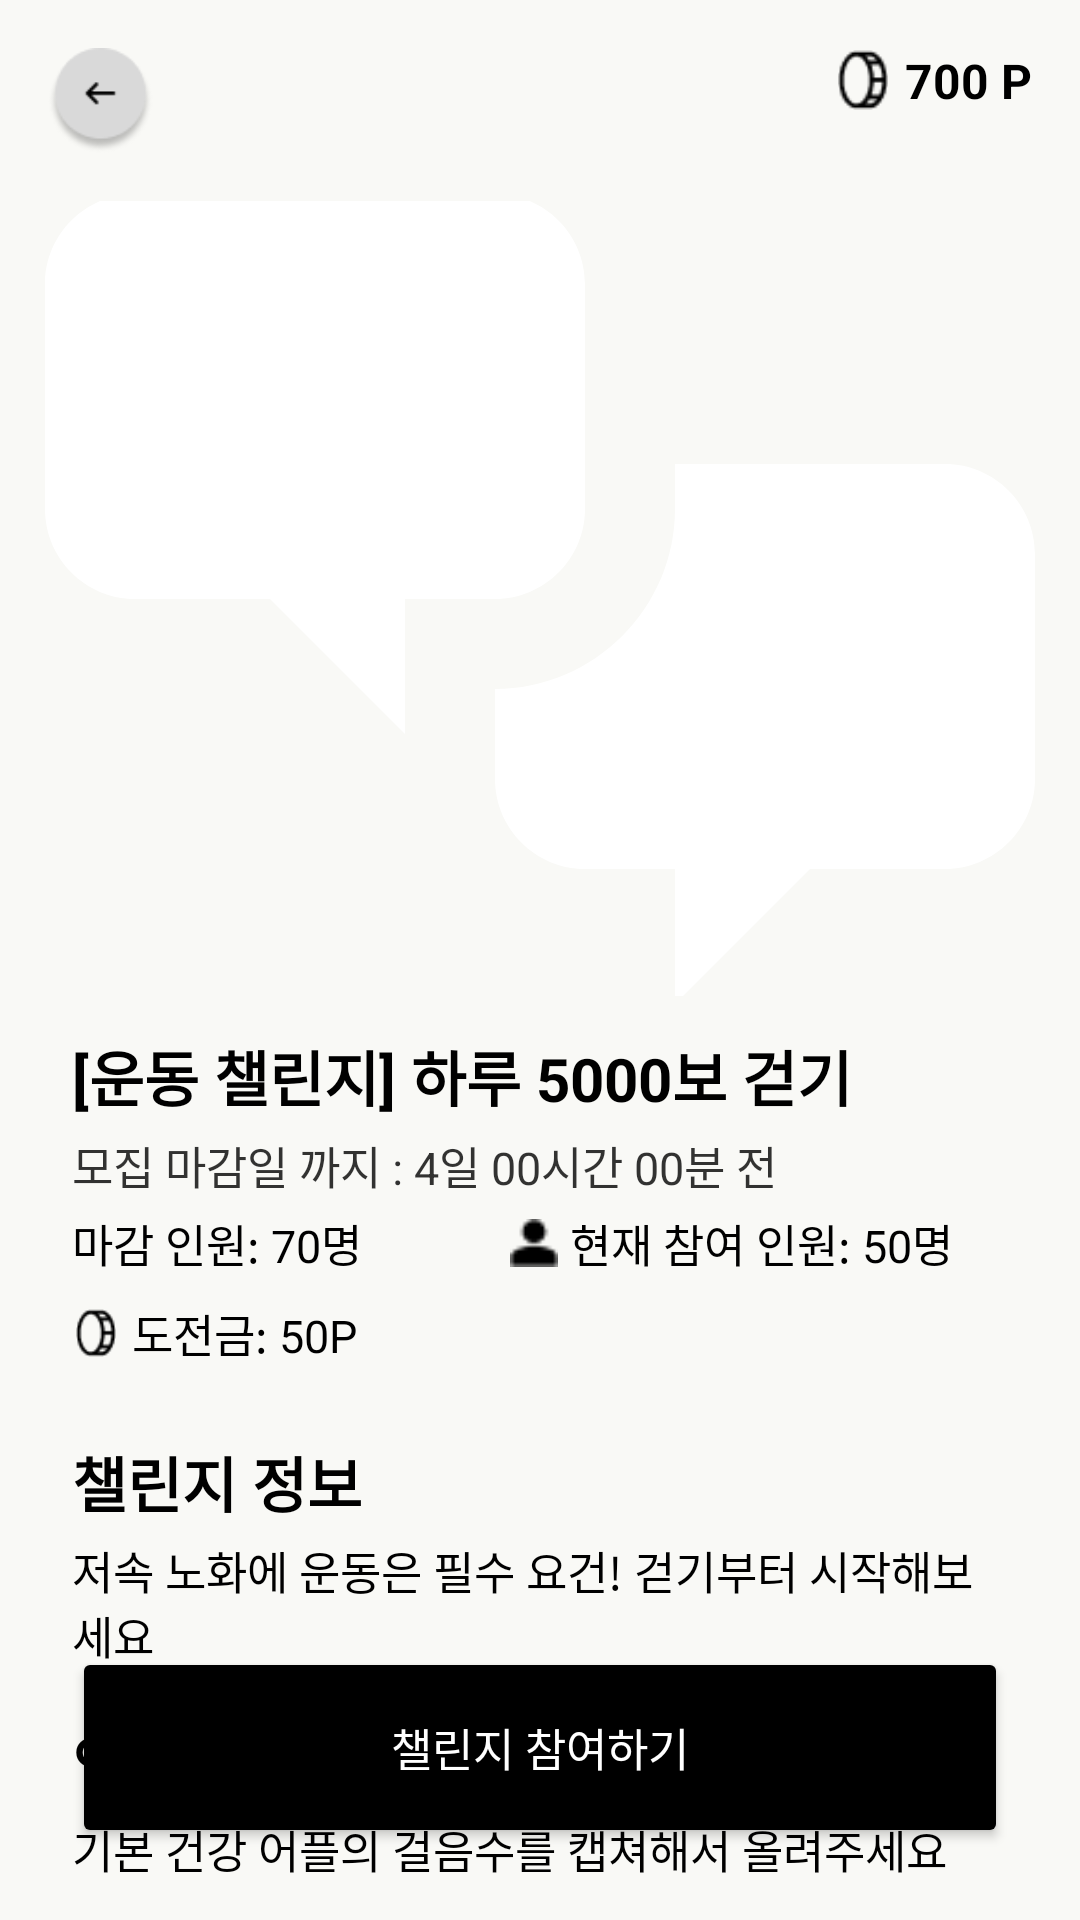

Locate icon controls on the screen. Image size 1080×1920, boxes as region(x1, y1, x2, y2).
back: region(55, 48, 147, 147)
person: region(510, 1219, 558, 1267)
point: region(838, 50, 888, 110), region(76, 1309, 116, 1357)
